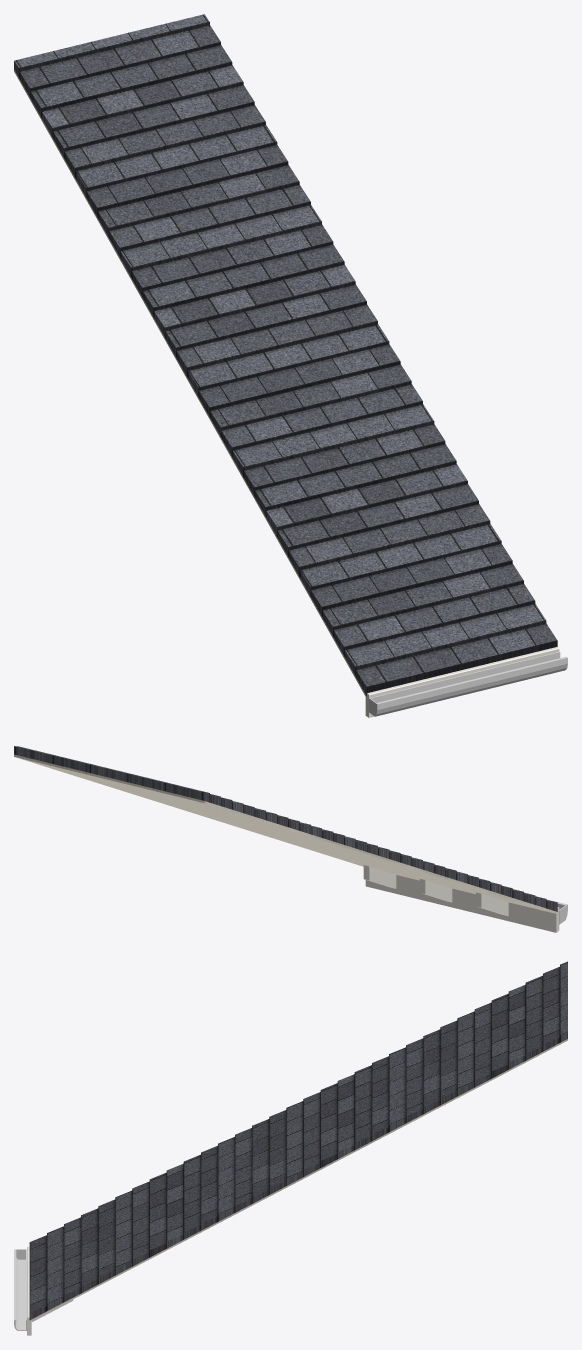
Rendered from roof_store_front_r.glb.
3 views of the same model, one above another, from view 1: azimuth 30°, elevation 25°; view 2: azimuth 150°, elevation 25°; view 3: azimuth 270°, elevation 25° (orthographic). The views are drawn at different scales.
Visible parts, largest first — view 1: roof_store_front_r_shingles, roof_store_front_r_gutter, roof_store_front_r_trim, roof_store_front_r_plaster; view 2: roof_store_front_r_plaster, roof_store_front_r_shingles, roof_store_front_r_trim; view 3: roof_store_front_r_shingles, roof_store_front_r_plaster, roof_store_front_r_gutter.
Boxes of the visible parts, bbox=[...] form: roof_store_front_r_shingles: bbox=[14, 14, 557, 696]; roof_store_front_r_gutter: bbox=[369, 651, 567, 716]; roof_store_front_r_trim: bbox=[365, 647, 559, 717]; roof_store_front_r_plaster: bbox=[14, 69, 366, 698]; roof_store_front_r_plaster: bbox=[14, 754, 557, 914]; roof_store_front_r_shingles: bbox=[14, 746, 557, 911]; roof_store_front_r_trim: bbox=[363, 865, 559, 932]; roof_store_front_r_shingles: bbox=[29, 961, 567, 1319]; roof_store_front_r_plaster: bbox=[29, 1039, 567, 1321]; roof_store_front_r_gutter: bbox=[14, 1249, 26, 1330].
Bounding box in the file's own units: 1.7 × 3.39 × 5.61.
4 materials, 2 textured.
